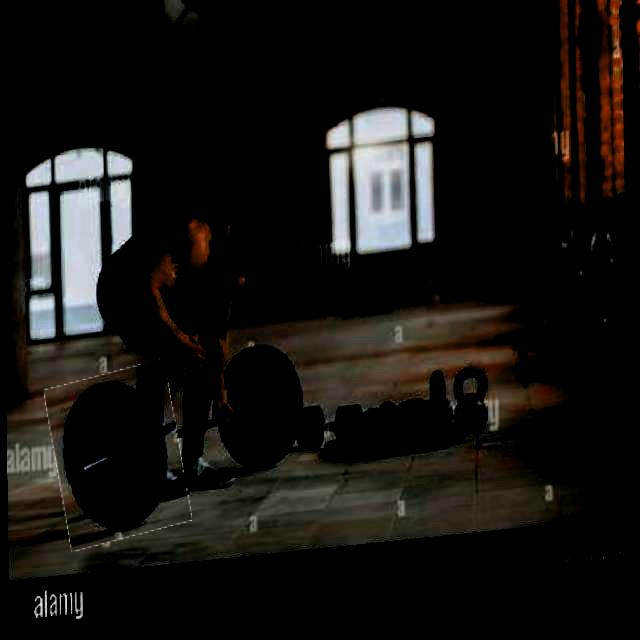barbell: (49, 365, 186, 552)
